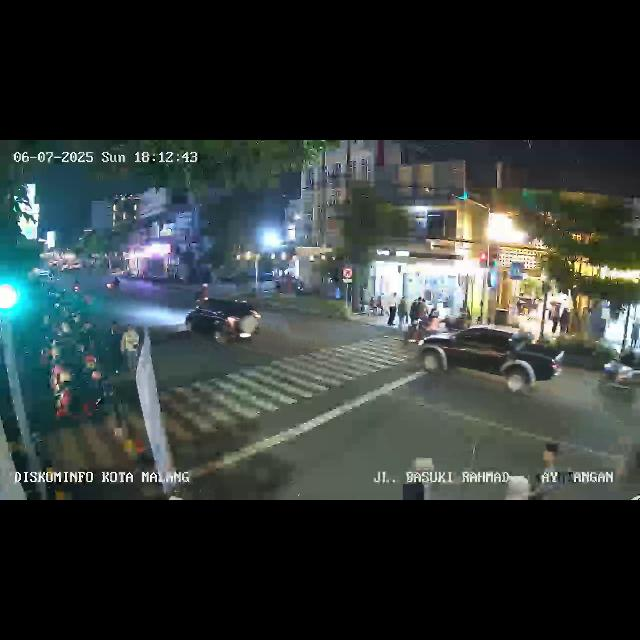car: (418, 324, 558, 396), (186, 296, 260, 348), (601, 349, 639, 399)
motorcycle: (106, 272, 120, 292)
person: (122, 324, 140, 372), (106, 320, 122, 374), (412, 298, 424, 334), (388, 292, 398, 330), (398, 296, 409, 330), (629, 316, 640, 347), (549, 302, 559, 336), (560, 304, 570, 336)
